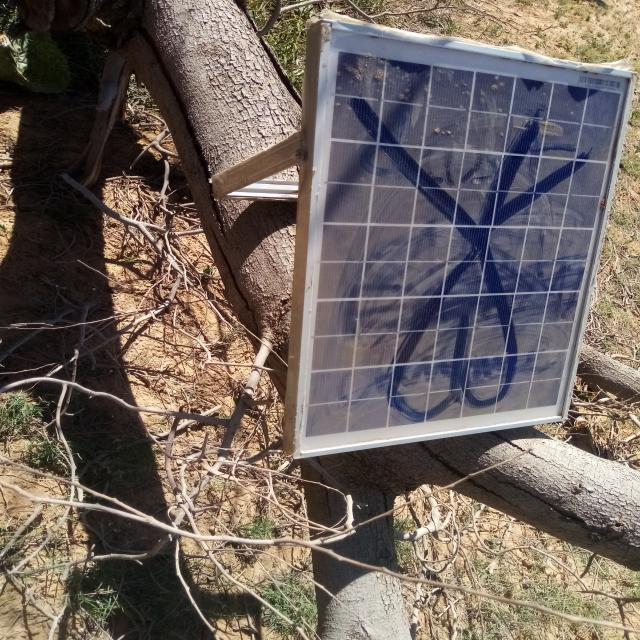faulty: (297, 23, 636, 456)
